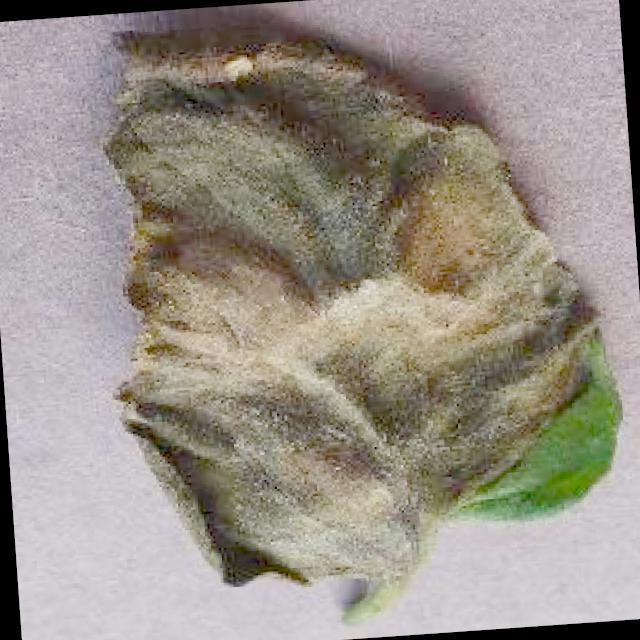Tomato late blight leaf: (86, 0, 633, 599)
